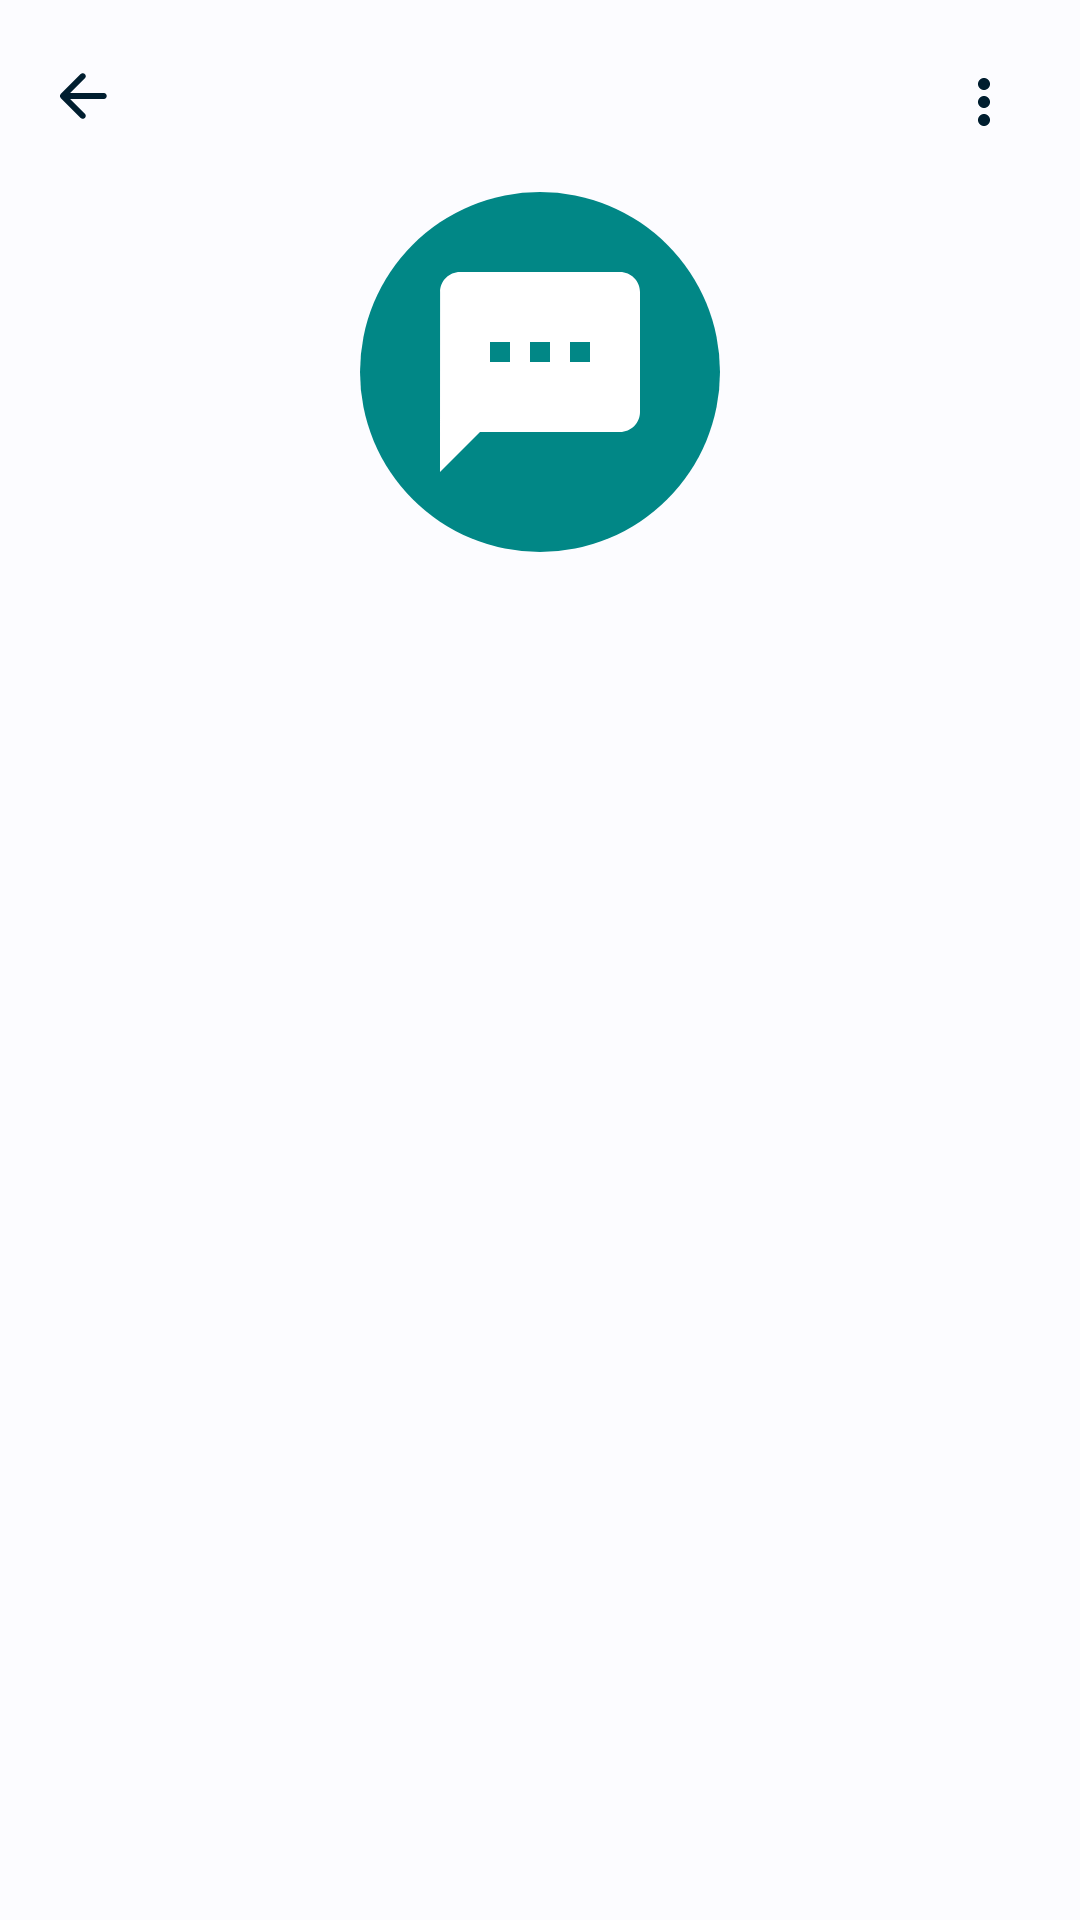

Icons on this 1080px×1920px Android screen, each with the point to tap as point (x, y):
arrow back: point (83, 96)
